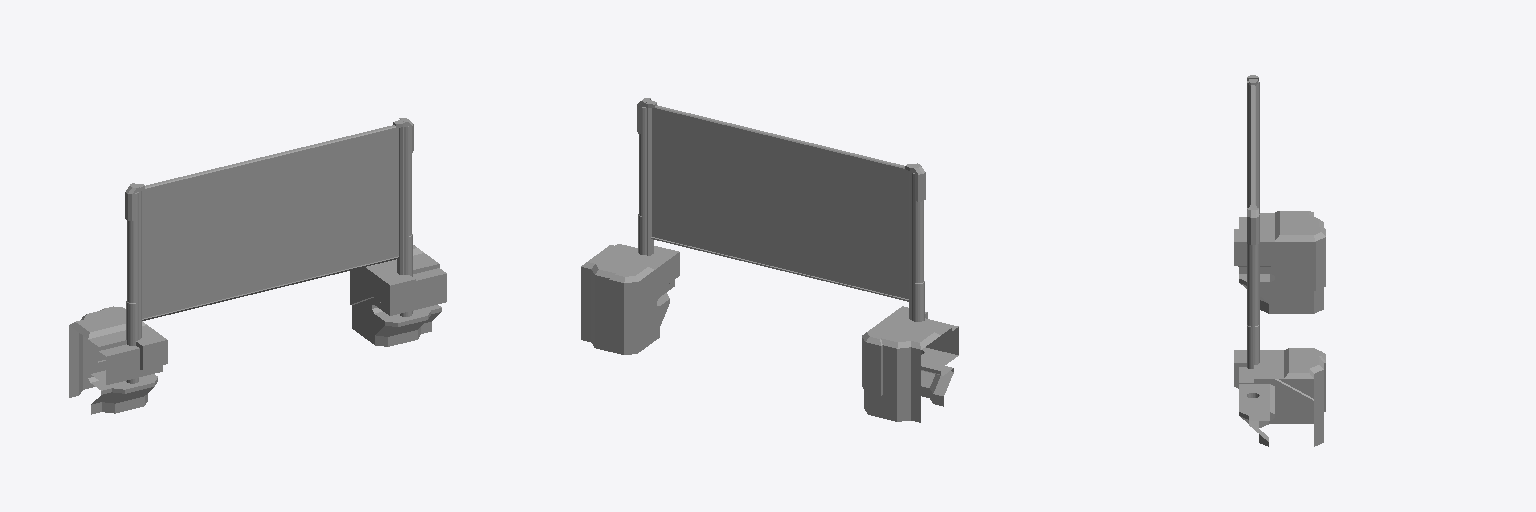
Rendered from projector-screen.obj.
The picture shows the model from 3 angles: view 1: azimuth 30°, elevation 25°; view 2: azimuth 150°, elevation 25°; view 3: azimuth 270°, elevation 25°; orthographic projection.
Visible parts, largest first — view 1: Mesh1 Low_Poly_ONI_glass_projector_sign__needs_textures1 Model; view 2: Mesh1 Low_Poly_ONI_glass_projector_sign__needs_textures1 Model; view 3: Mesh1 Low_Poly_ONI_glass_projector_sign__needs_textures1 Model.
Part boxes in pixels (left/top/right/bottom): Mesh1 Low_Poly_ONI_glass_projector_sign__needs_textures1 Model: left=69, top=118, right=446, bottom=414; Mesh1 Low_Poly_ONI_glass_projector_sign__needs_textures1 Model: left=581, top=98, right=958, bottom=422; Mesh1 Low_Poly_ONI_glass_projector_sign__needs_textures1 Model: left=1234, top=75, right=1325, bottom=446.
Bounding box in the file's own units: 6.04 × 3.83 × 1.42.